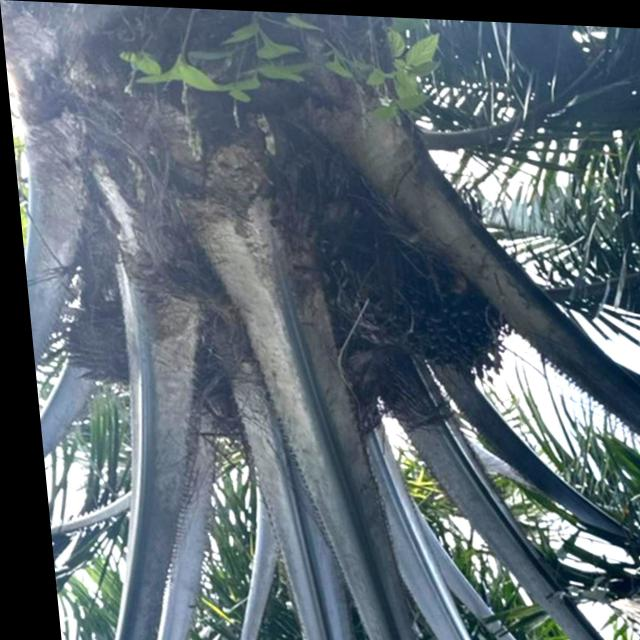unripe: (347, 236, 507, 375)
